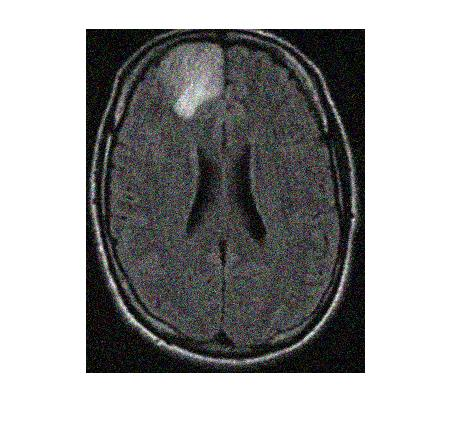Brain_Cancer: (157, 41, 225, 120)
